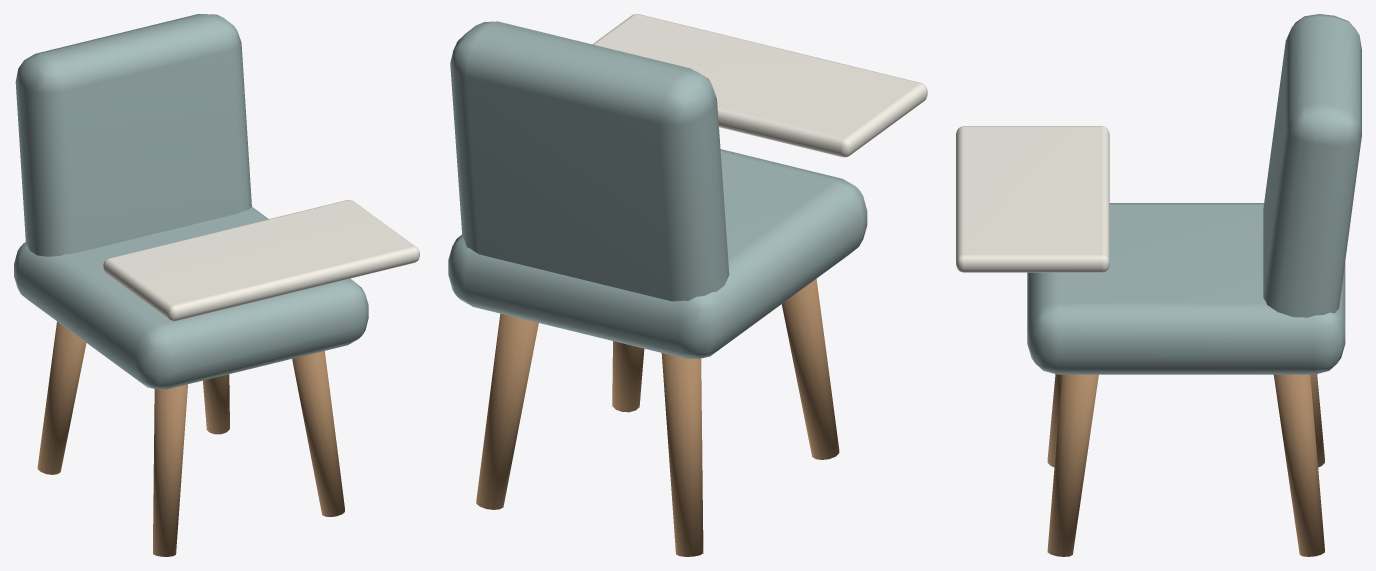
Rendered from atelier-high-chair.glb.
3 renders of one model, left to right at view 1: azimuth 30°, elevation 25°; view 2: azimuth 150°, elevation 25°; view 3: azimuth 270°, elevation 25°, orthographic. The views are drawn at different scales.
Visible parts, largest first — view 1: fabric.090, ceramic.123, legs.185; view 2: fabric.090, ceramic.123, legs.185; view 3: fabric.090, ceramic.123, legs.185.
Part boxes in pixels (x1=…): fabric.090: x1=14, y1=14, x2=368, y2=389; ceramic.123: x1=103, y1=200, x2=419, y2=321; legs.185: x1=37, y1=321, x2=344, y2=556; fabric.090: x1=448, y1=21, x2=867, y2=359; ceramic.123: x1=592, y1=14, x2=927, y2=157; legs.185: x1=476, y1=279, x2=839, y2=556; fabric.090: x1=1027, y1=14, x2=1361, y2=374; ceramic.123: x1=956, y1=126, x2=1109, y2=272; legs.185: x1=1047, y1=374, x2=1324, y2=556.
Bounding box in the file's own units: 0.58 × 0.9036 × 0.7403.
